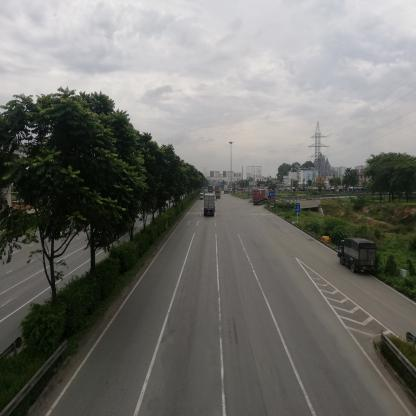container: (255, 191, 274, 205)
truck: (339, 235, 377, 273), (205, 196, 216, 218)
